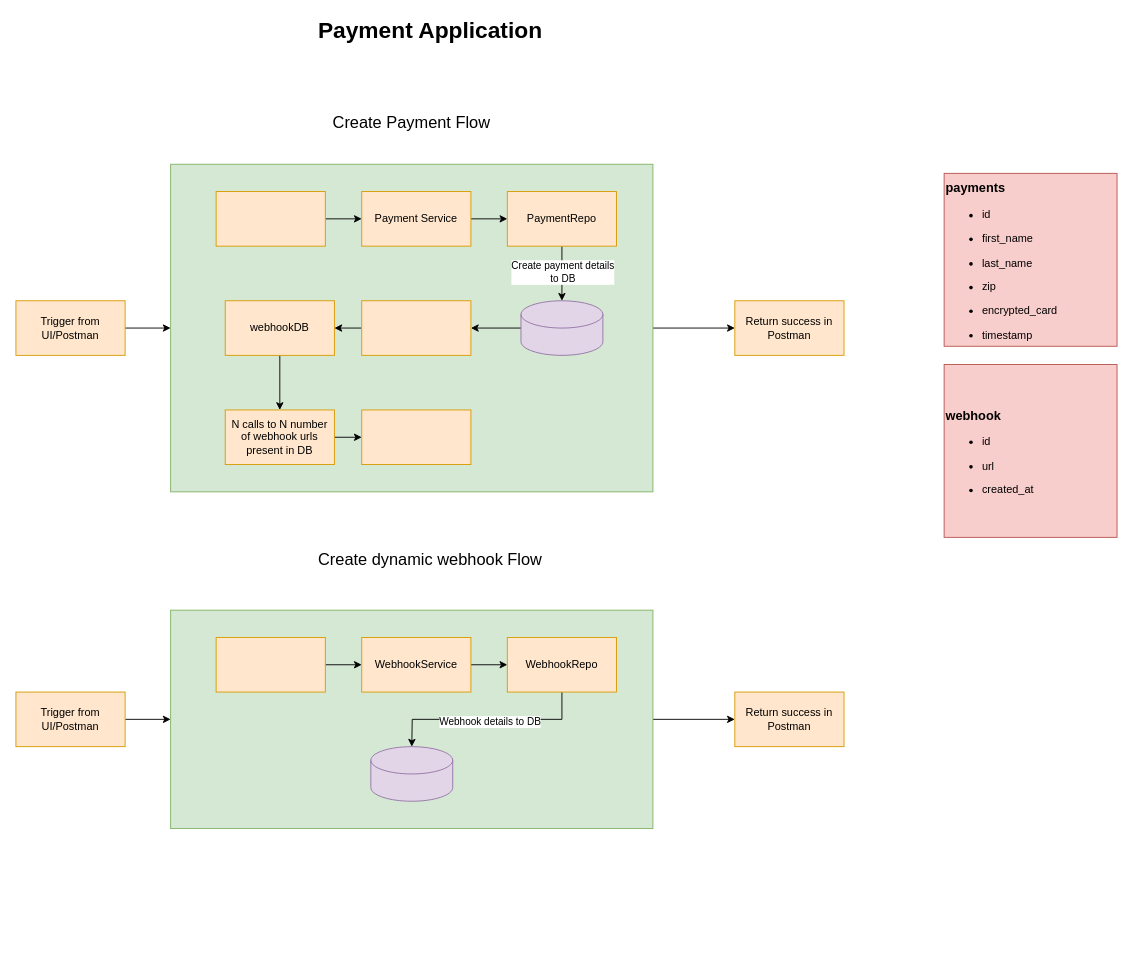
The diagram is 1133 pixels wide and 953 high, and some of its shapes have lost their labels. The shapes that lost their labels are listed below. From the top down, each one's box as (x1, y1, x2, y2) in pixels, then its label:
(215, 191, 325, 246): PaymentController
(361, 300, 471, 355): Once, payment created, trigger webhook POST call from PaymentService
(520, 300, 603, 355): payment_table
(361, 409, 471, 465): If success → OK If failure → retry queue / async job
(215, 637, 325, 692): WebhookController
(370, 746, 453, 801): webhook_table
